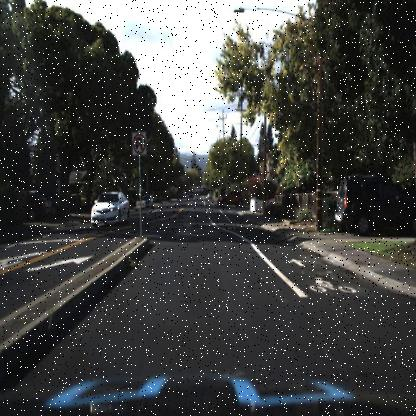car: (327, 164, 415, 237), (87, 182, 132, 232), (16, 187, 52, 228), (216, 188, 245, 210), (140, 191, 154, 209)
